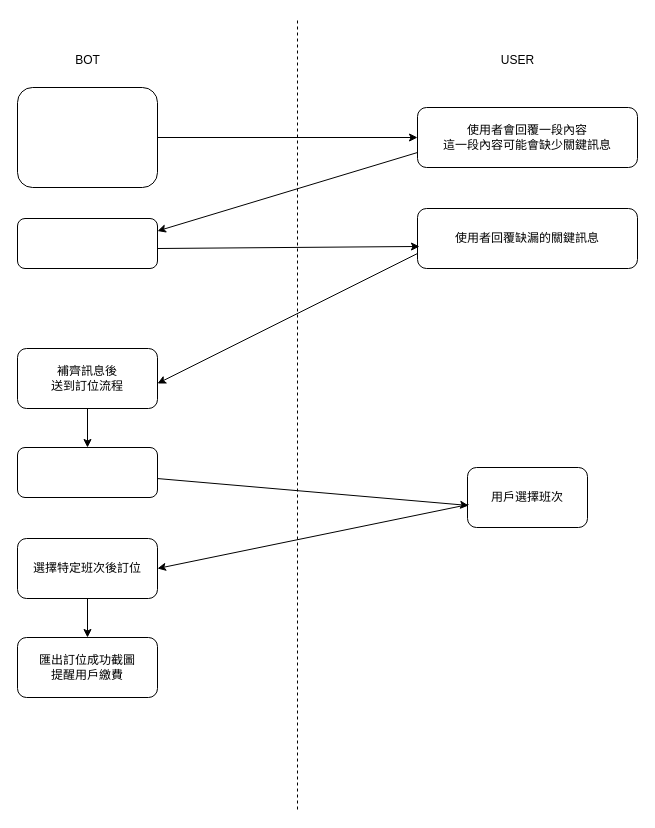
This 655x828 diagram has some shape labels left out. Here are the shapes that lost their labels. From the top down, the centre of each, then its label:
At point 87,137: "詢問使用者訂位訊息 1. 出發地 2.到站地 3.出發時間 4.出發日期".
At point 87,243: "詢問遺漏訊息".
At point 87,472: "詢問用戶要選哪個班次".
